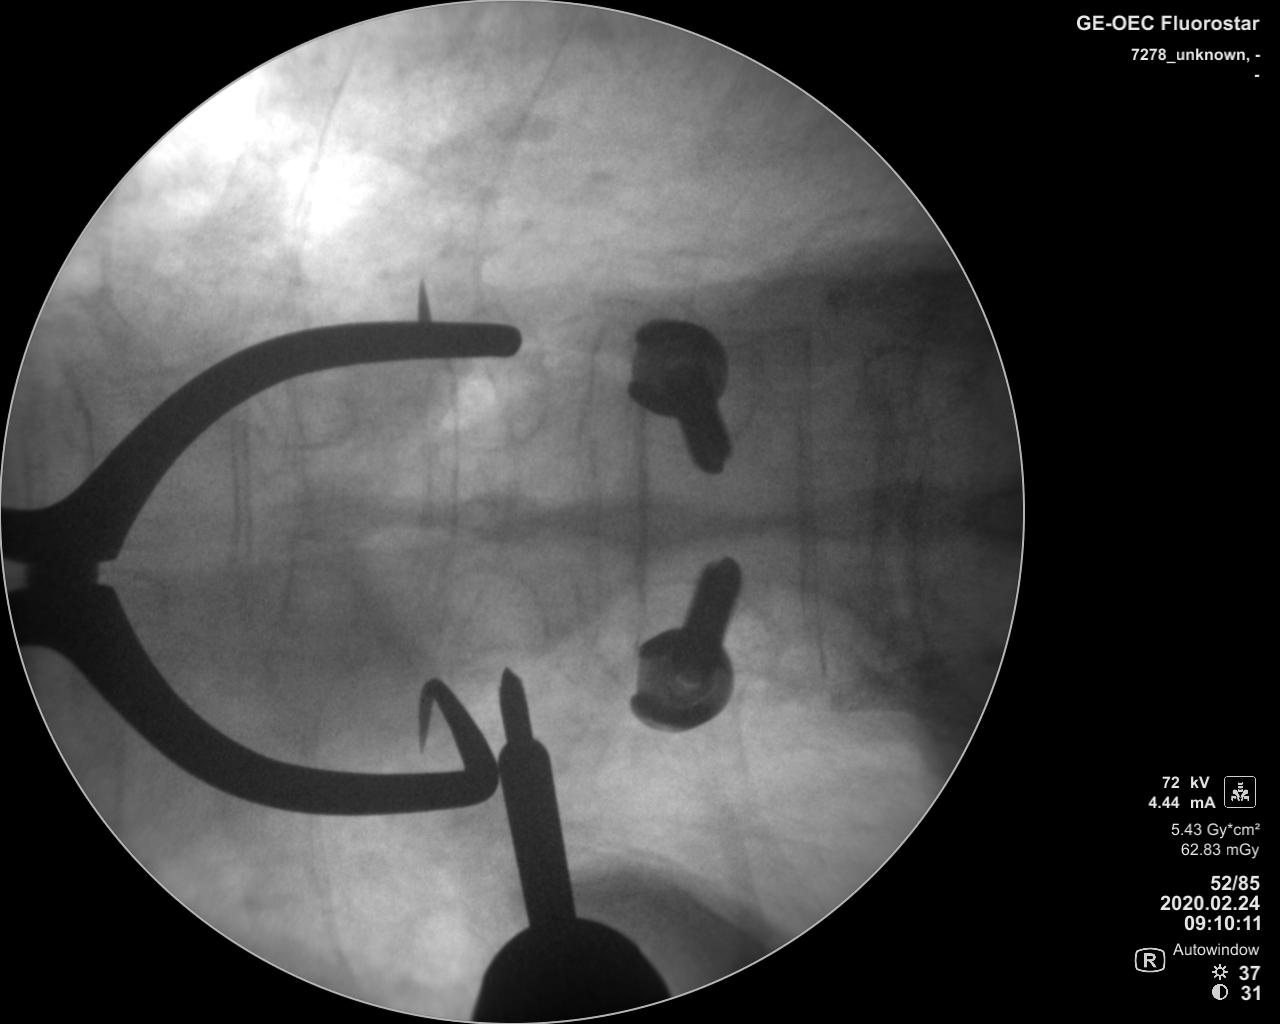eyes: (427, 356, 549, 448), (440, 572, 551, 671)
line: (790, 338, 830, 669), (574, 338, 602, 659), (439, 364, 471, 616), (223, 410, 256, 615), (871, 389, 895, 642), (630, 412, 653, 635)
nose: (801, 471, 960, 546), (580, 485, 726, 554), (264, 480, 403, 548), (423, 484, 564, 546)
